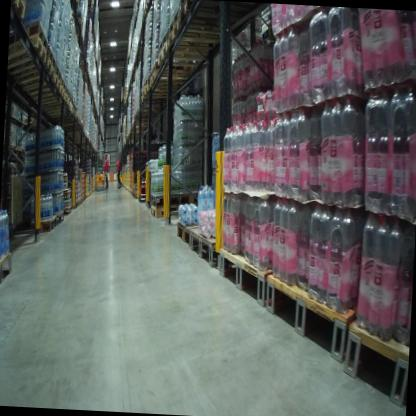pallet: (262, 271, 361, 375), (341, 310, 409, 405), (212, 233, 274, 317), (168, 17, 243, 55), (176, 0, 248, 32), (157, 40, 212, 74), (186, 223, 219, 274), (7, 37, 48, 76), (15, 68, 62, 101), (149, 185, 204, 211), (13, 49, 56, 82), (12, 20, 50, 53), (175, 213, 204, 250), (18, 82, 66, 103), (141, 81, 189, 101), (147, 198, 186, 220), (147, 71, 188, 91), (138, 93, 182, 108), (30, 212, 56, 235), (0, 252, 14, 291), (21, 111, 49, 127), (10, 0, 28, 22), (51, 57, 64, 84), (158, 28, 171, 51), (57, 69, 68, 90), (47, 44, 57, 63), (137, 192, 150, 206), (149, 61, 158, 78), (55, 210, 65, 224), (68, 0, 80, 9), (63, 204, 73, 214), (8, 142, 17, 151), (17, 0, 31, 5), (20, 146, 27, 153), (15, 143, 20, 150)
pallet_truck: (92, 143, 111, 196)
